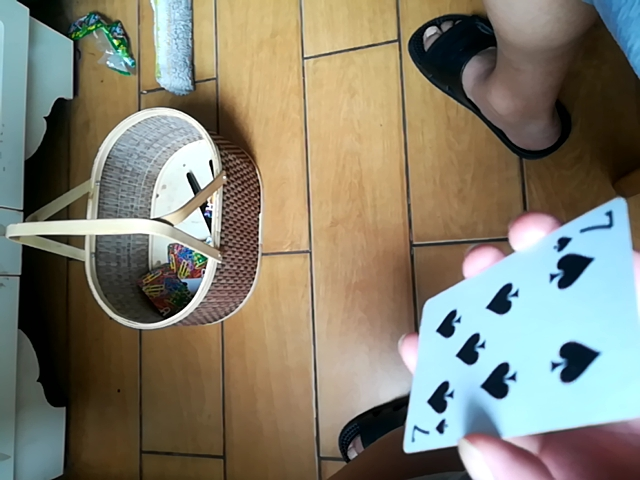ht 7: (404, 194, 639, 460)
